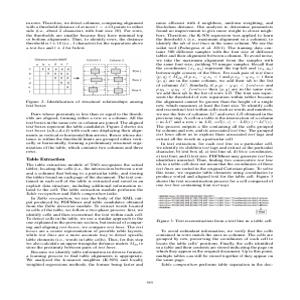diagram: (21, 54, 147, 99)
text: (154, 18, 276, 189), (23, 111, 145, 268), (152, 226, 277, 270), (23, 16, 146, 52)
